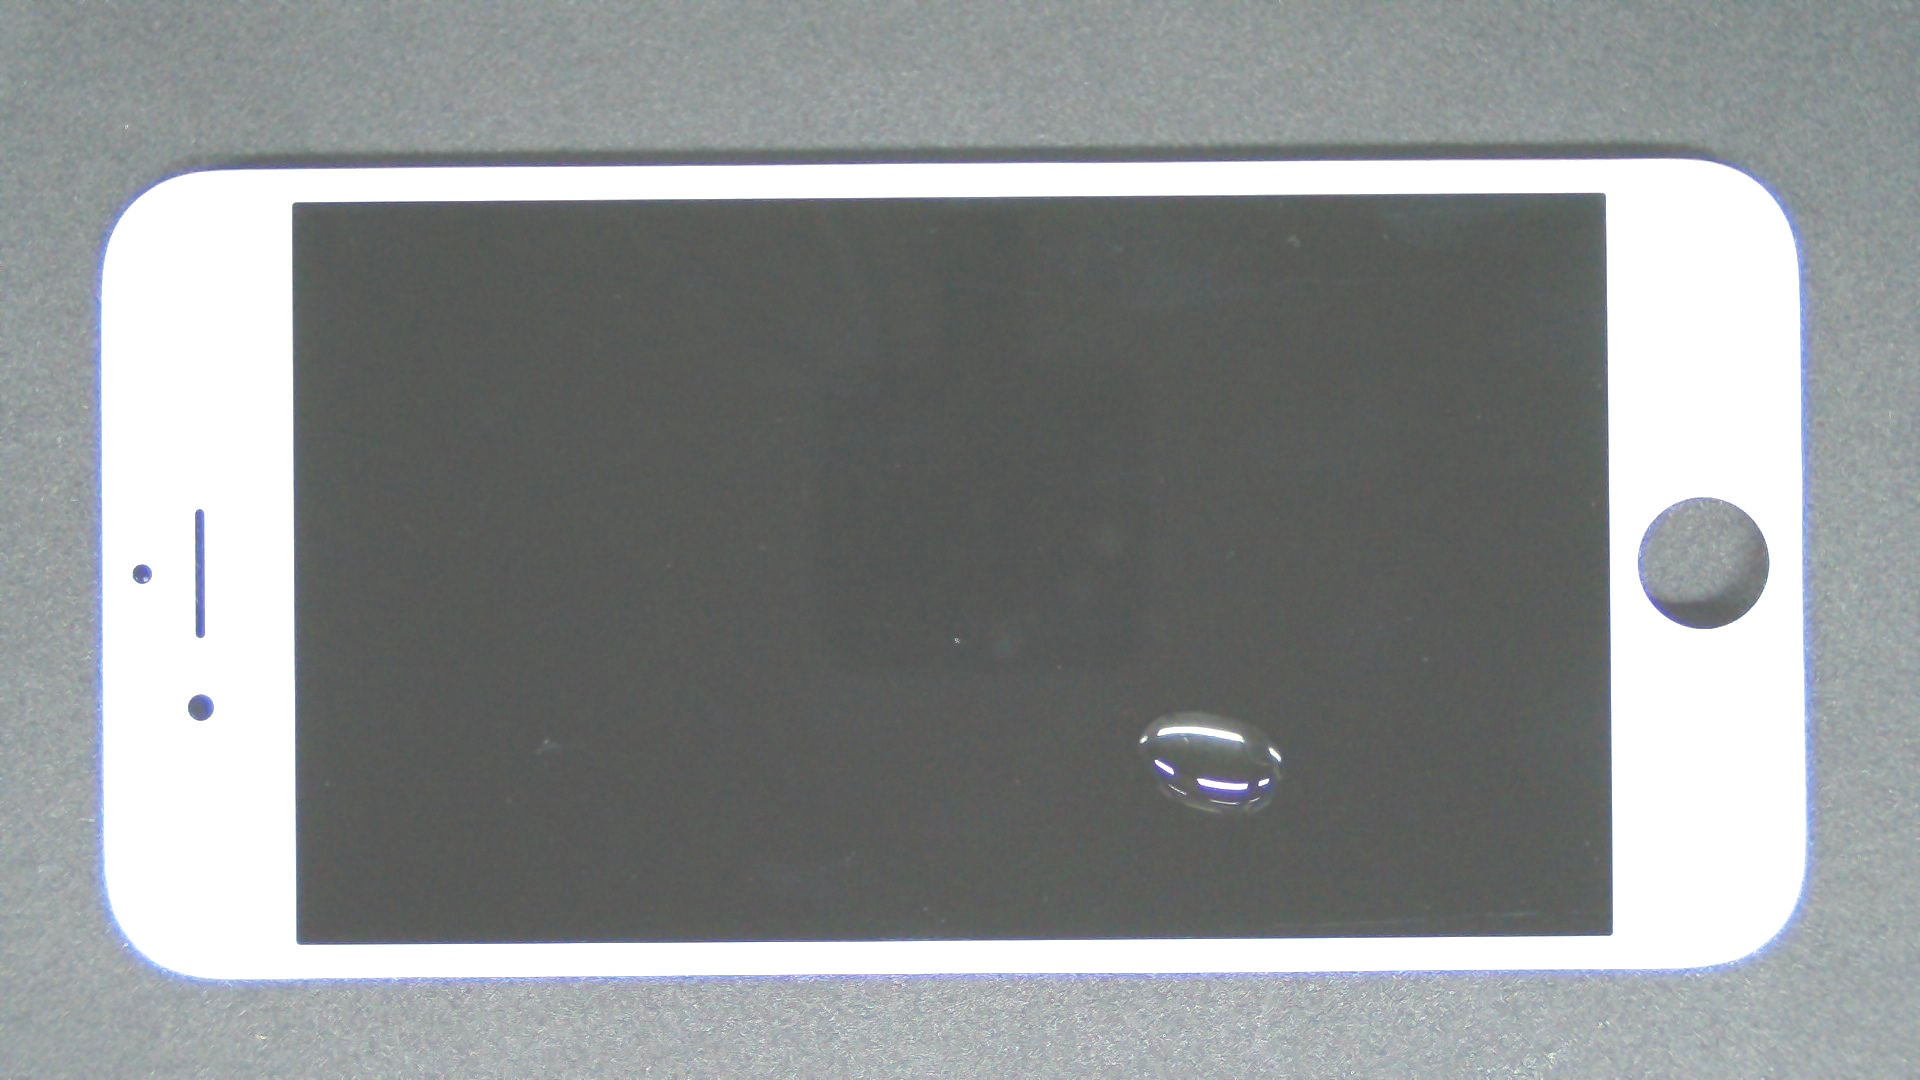oil: (587, 356, 1759, 1068)
